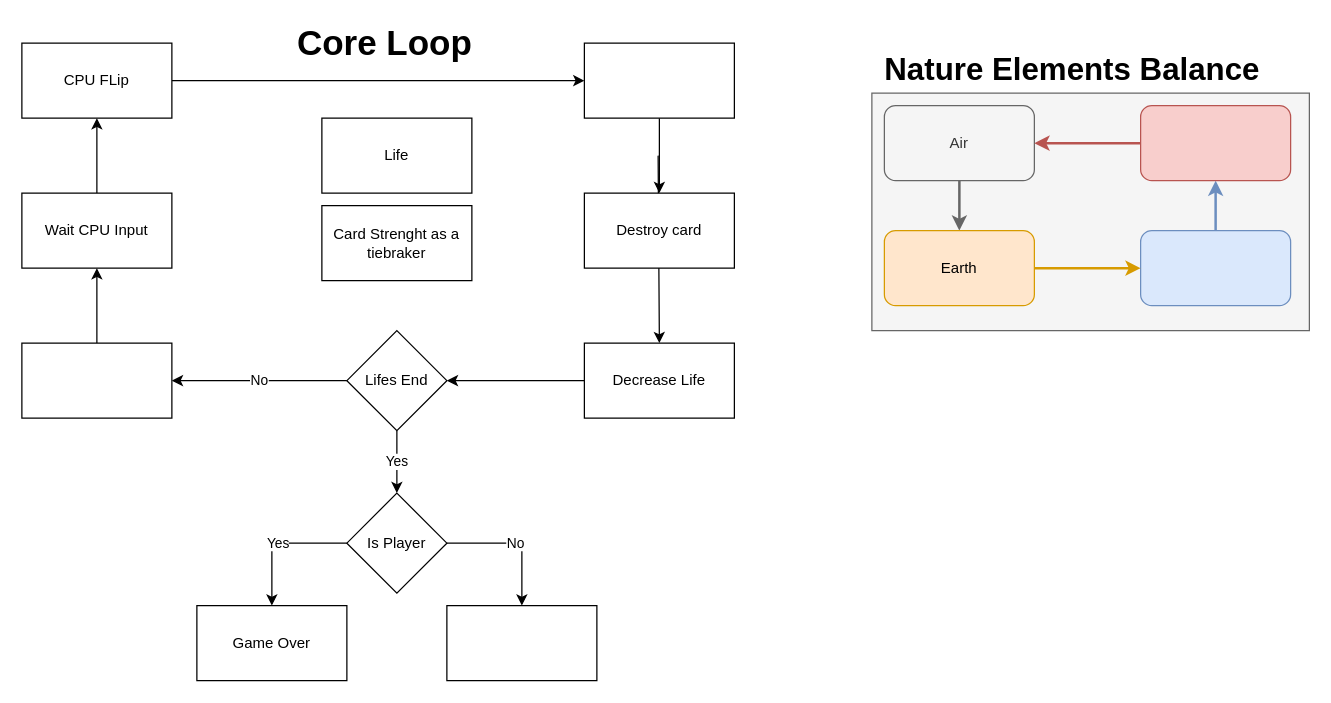
The diagram is 1331 pixels wide and 703 high, and some of its shapes have lost their labels. Here are the shapes that lost their labels. From the top down, the centre of each, then its label:
At (x=658, y=80): "Element Comparison".
At (x=1215, y=142): "Fire".
At (x=1215, y=267): "Water".
At (x=96, y=380): "Choose Cards Hand".
At (x=521, y=642): "Win".
